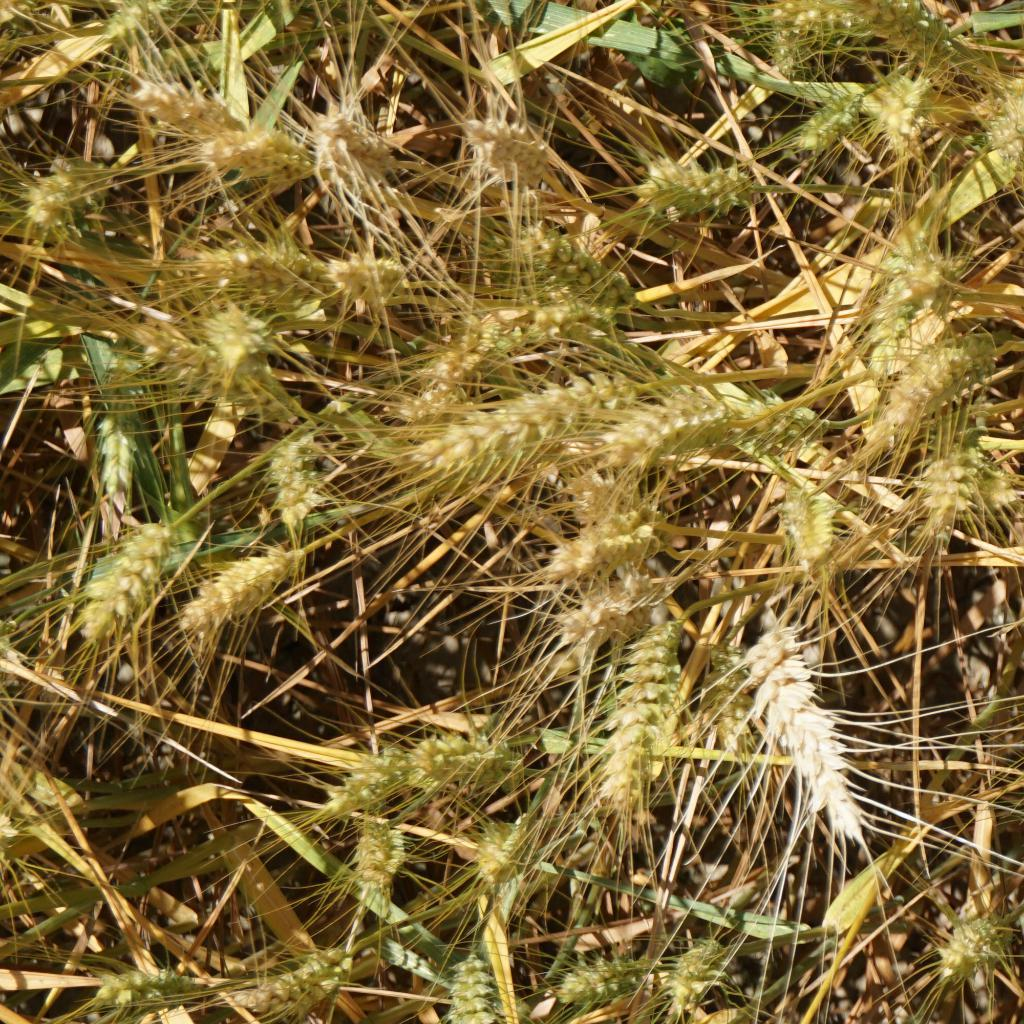0-0: (747, 629, 863, 830), (122, 314, 308, 421), (600, 616, 683, 808), (424, 375, 604, 461), (59, 517, 166, 631), (867, 340, 1008, 422), (199, 225, 322, 303), (393, 331, 515, 409), (629, 150, 748, 222), (176, 555, 295, 627), (529, 224, 630, 306), (497, 284, 615, 353), (854, 243, 922, 360), (309, 109, 408, 186), (913, 437, 983, 545), (613, 399, 738, 458), (468, 103, 553, 189), (186, 302, 278, 375), (558, 562, 647, 636), (243, 954, 349, 1013), (693, 634, 743, 755), (779, 476, 841, 572), (340, 802, 414, 882), (92, 956, 214, 1004), (849, 0, 961, 51), (549, 513, 657, 565), (414, 732, 507, 792), (939, 906, 1011, 980), (768, 0, 845, 69), (882, 245, 949, 323), (748, 381, 829, 443), (448, 943, 510, 1024), (565, 468, 656, 523), (268, 435, 325, 520), (140, 81, 233, 133), (208, 128, 295, 181), (94, 408, 146, 496), (790, 83, 862, 146), (927, 455, 1014, 506), (19, 162, 84, 230), (472, 814, 537, 882), (329, 738, 403, 797), (322, 253, 407, 303), (95, 0, 166, 59), (566, 948, 643, 1000), (664, 935, 729, 994), (875, 74, 928, 146), (991, 88, 1024, 148)
